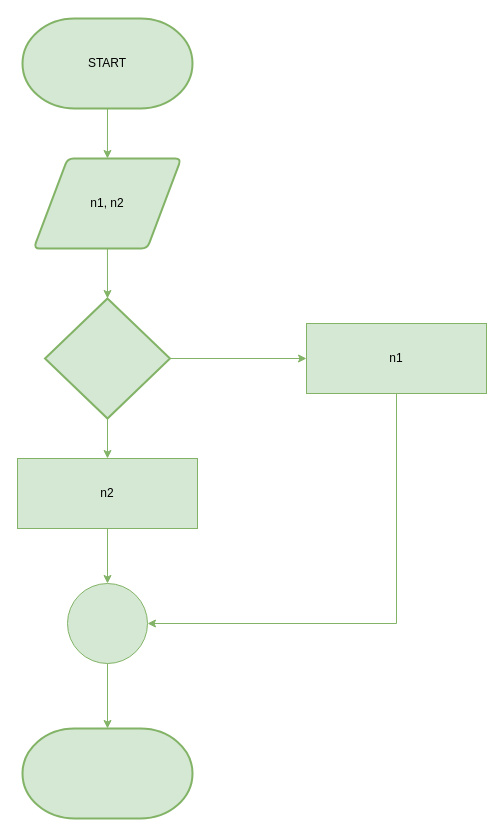
The diagram is 504 pixels wide and 836 high, and some of its shapes have lost their labels. The shapes that lost their labels are listed below. From the top down, each one's centre as x and y in pixels, then its label:
(107,358): n1 > n2
(107,773): STOP
